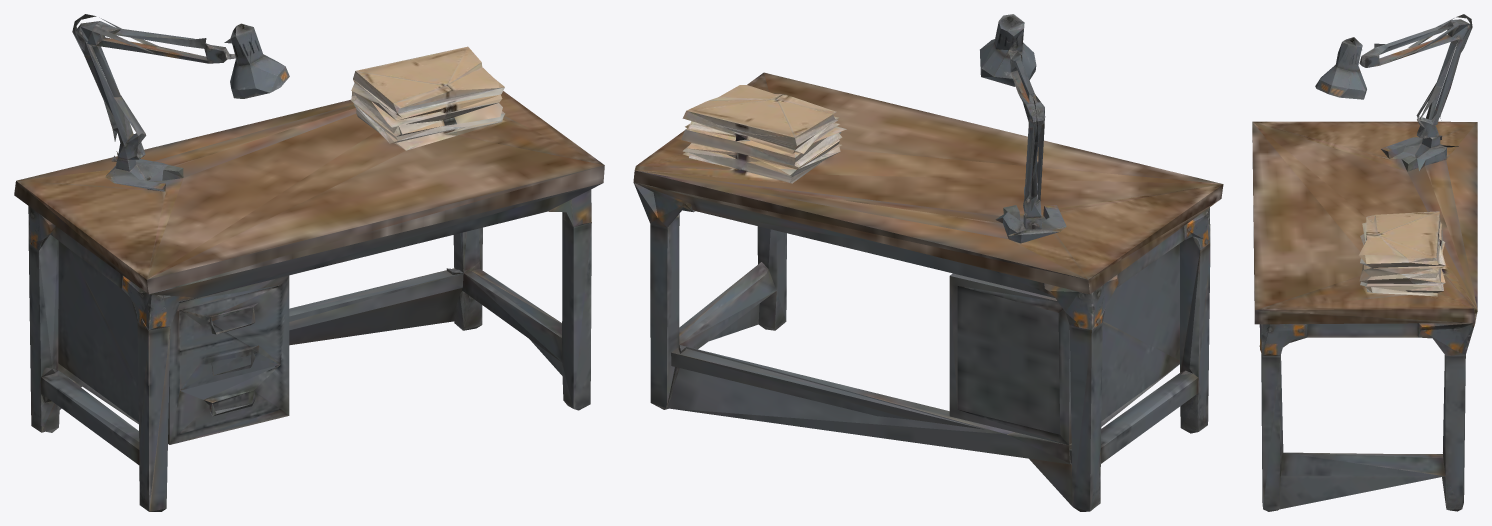
The model's file is desk.glb.
3 renders of one model, left to right at view 1: azimuth 30°, elevation 25°; view 2: azimuth 150°, elevation 25°; view 3: azimuth 270°, elevation 25°, orthographic. The views are drawn at different scales.
Visible parts, largest first — view 1: Mesh_0; view 2: Mesh_0; view 3: Mesh_0.
Boxes of the visible parts, x1,y1,x2,y2 form: Mesh_0: (14,14,604,511); Mesh_0: (633,14,1223,511); Mesh_0: (1252,14,1477,511).
Size of the model in its own units: 1.8 by 1.56 by 0.9041.
Materials: 1 (1 with a texture image).
